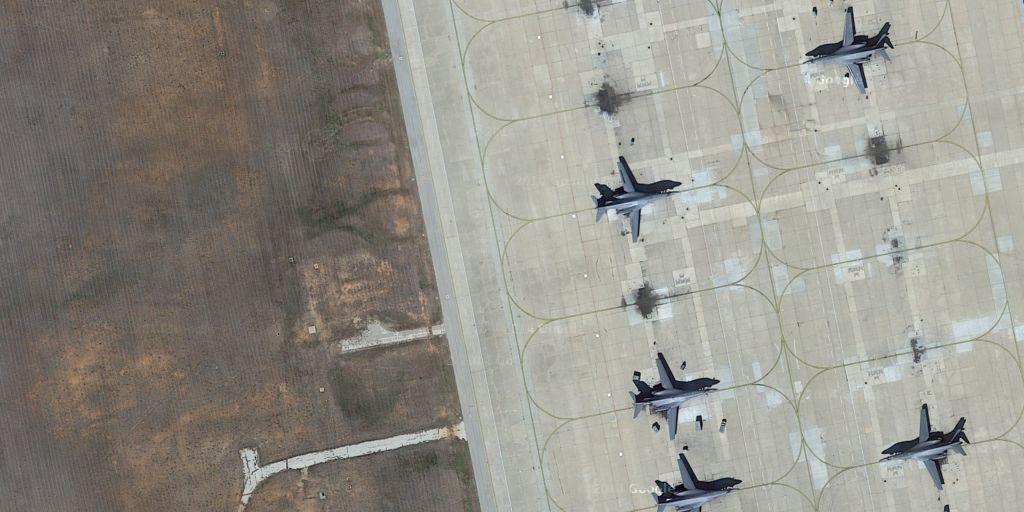B-1B: (802, 5, 899, 101), (586, 159, 685, 244), (880, 401, 971, 492), (625, 354, 721, 438), (647, 452, 741, 512)
